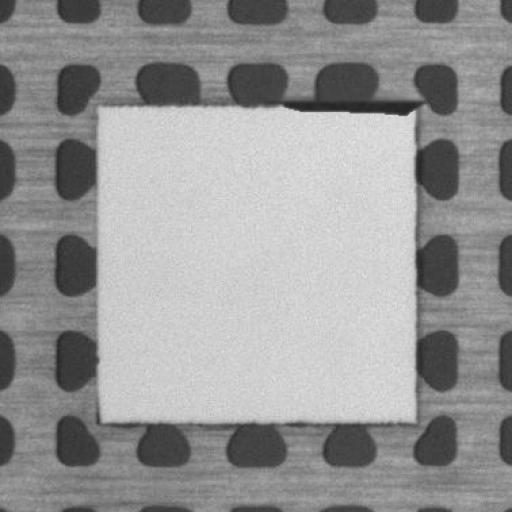DIE_BROKEN: (278, 95, 425, 116)
